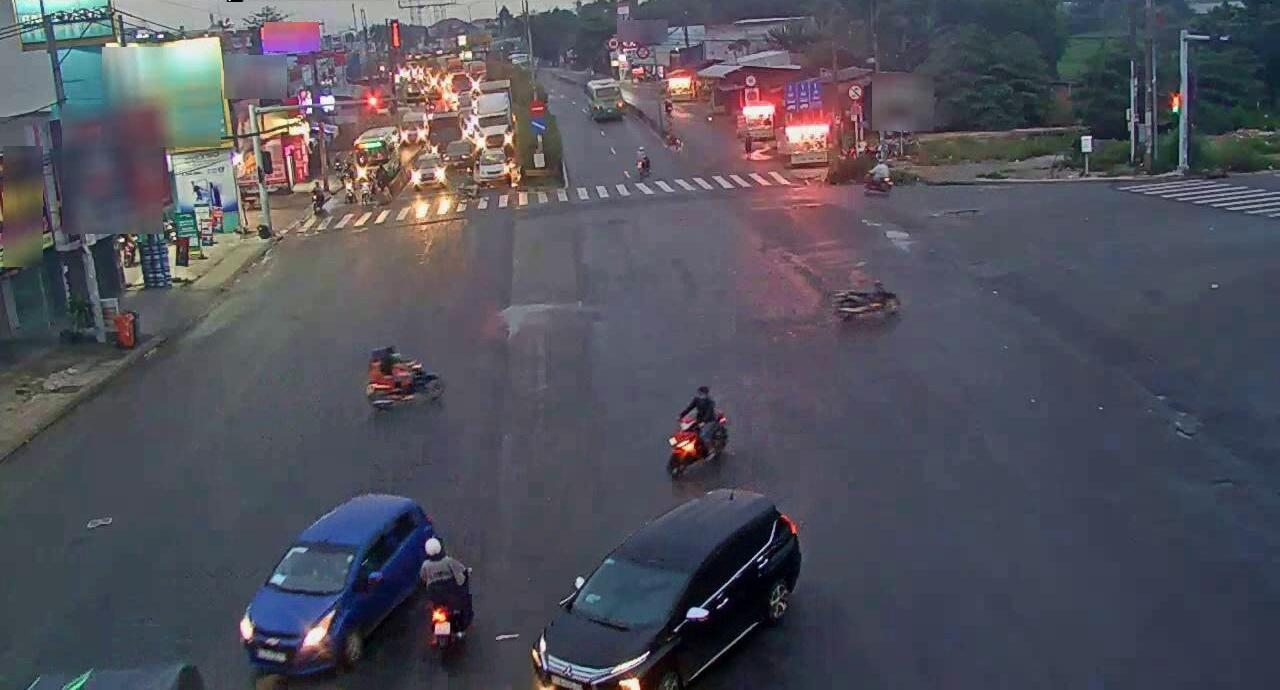xe hoi: (525, 484, 802, 690), (230, 482, 432, 681)
xe may: (660, 382, 731, 486), (422, 537, 477, 661), (362, 344, 445, 412), (829, 256, 902, 323)
